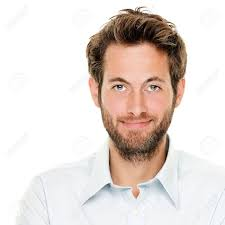white_male: (91, 54, 182, 158)
